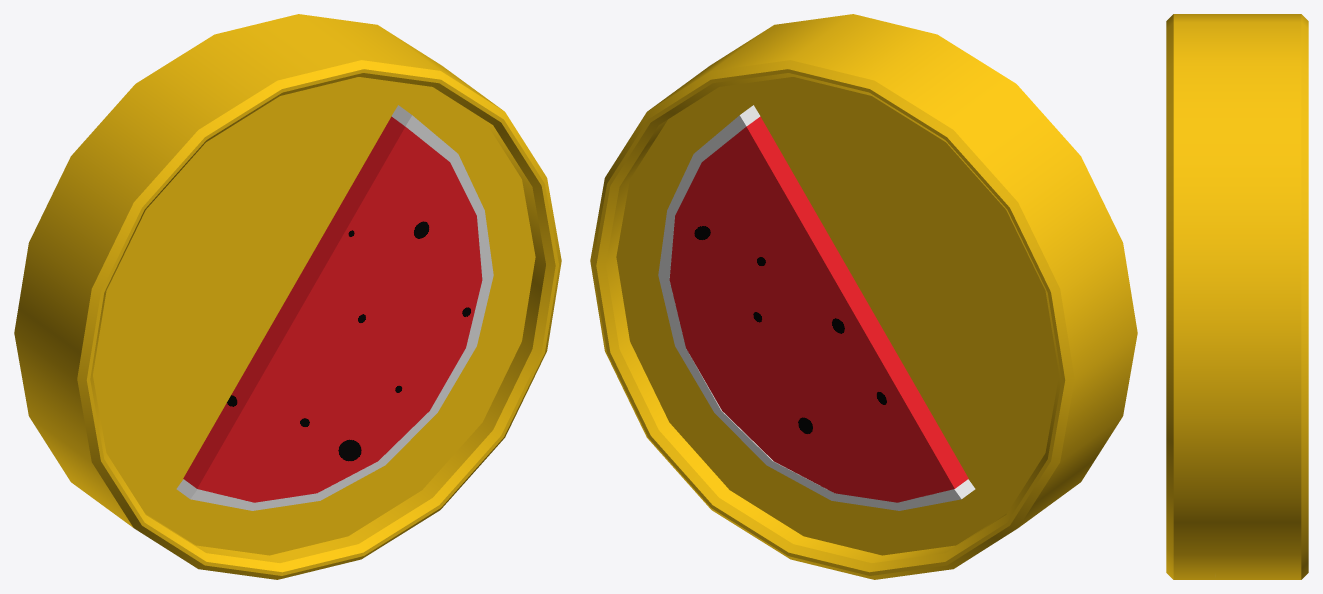
Rendered from CoinWatermelon.FBX.
3 views of the same model, side by side, from view 1: azimuth 30°, elevation 25°; view 2: azimuth 150°, elevation 25°; view 3: azimuth 270°, elevation 25° (orthographic).
Visible parts, largest first — view 1: Coin, WatermelonInner, WatermelonOuter; view 2: Coin, WatermelonInner, WatermelonOuter; view 3: Coin.
Part boxes in pixels (<box>): Coin: <box>14,14,561,579</box>; WatermelonInner: <box>183,116,482,502</box>; WatermelonOuter: <box>176,105,493,510</box>; Coin: <box>590,14,1137,579</box>; WatermelonInner: <box>669,116,968,502</box>; WatermelonOuter: <box>658,105,975,510</box>; Coin: <box>1166,14,1308,579</box>.
Size of the model in its own units: 31.5 by 31.02 by 7.87.
2 materials, 2 textured.
